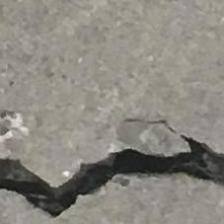Crack: (0, 105, 224, 216)
